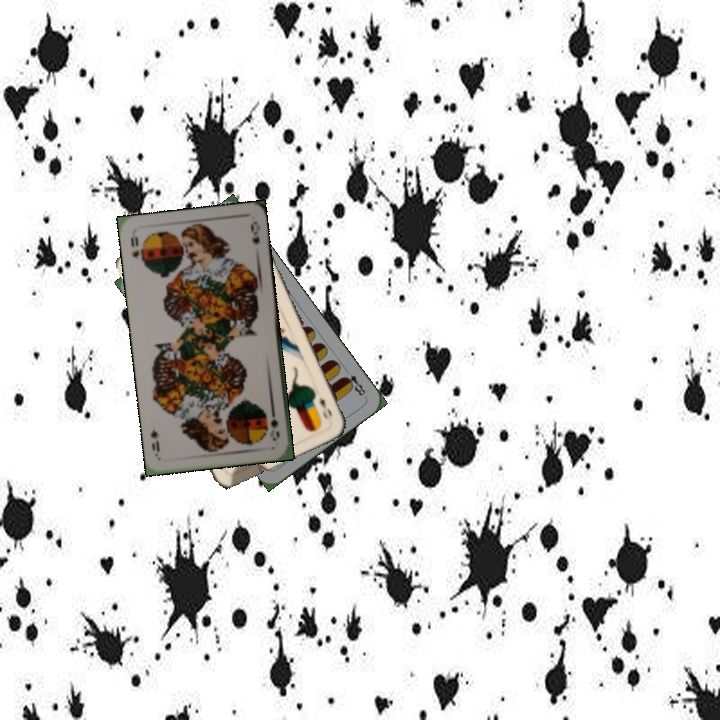E8: (339, 370, 369, 400)
EO: (315, 393, 335, 423)
SO: (126, 230, 145, 265), (266, 404, 282, 443)
